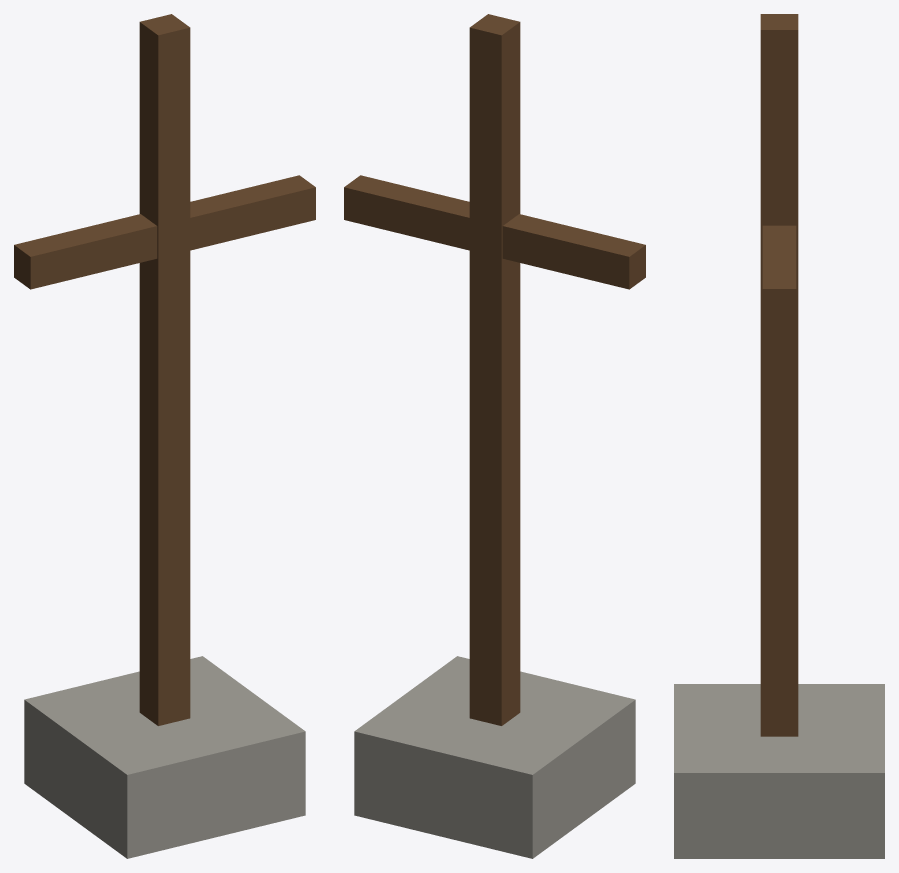
File: cruzeiro_a.glb
The picture shows the model from 3 angles, left to right: view 1: azimuth 30°, elevation 25°; view 2: azimuth 150°, elevation 25°; view 3: azimuth 270°, elevation 25°; orthographic projection. The views are drawn at different scales.
Parts seen in each view (by area): view 1: cruzeiro_a; view 2: cruzeiro_a; view 3: cruzeiro_a.
Boxes of the visible parts, x1=… form: cruzeiro_a: x1=14, y1=14, x2=315, y2=858; cruzeiro_a: x1=344, y1=14, x2=645, y2=858; cruzeiro_a: x1=674, y1=14, x2=884, y2=858.
Size of the model in its own units: 3.2 by 8.3 by 2.
